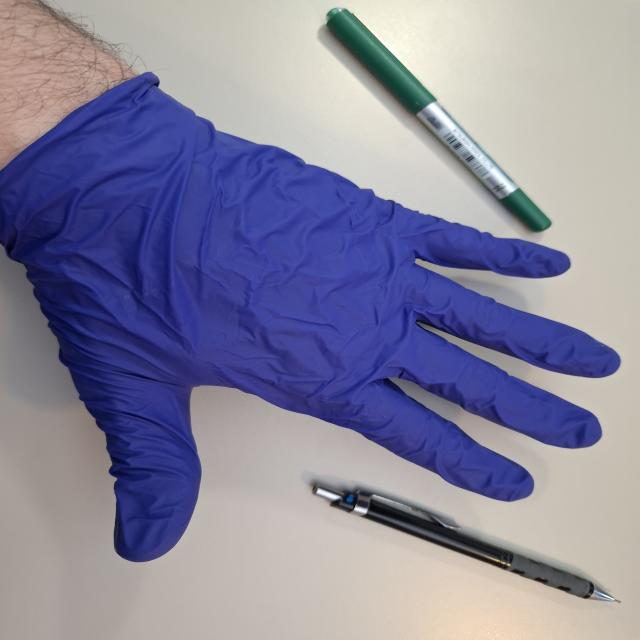glove_on: (1, 68, 625, 566)
